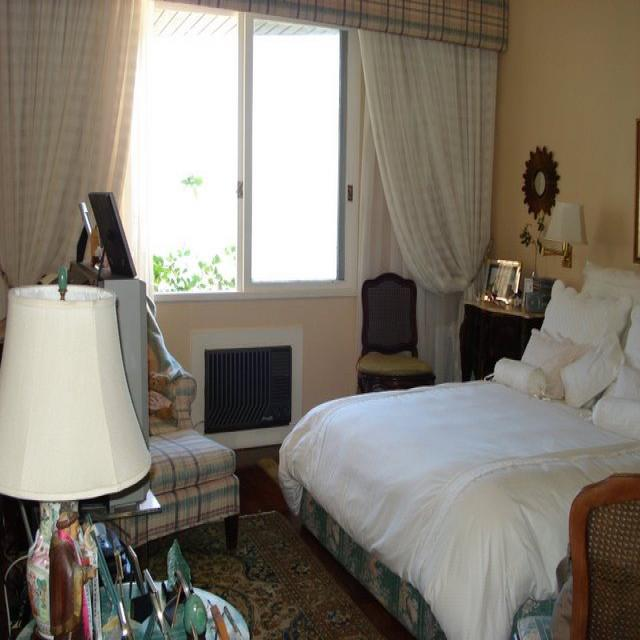2028: (42, 507, 80, 636)
Bed skirt: (277, 261, 638, 637)
Chair: (569, 473, 639, 639), (355, 273, 435, 395)
Lamp: (1, 267, 150, 637), (542, 201, 582, 265)
Window: (151, 1, 356, 297)
armchair crop: (40, 279, 238, 551)
bed-clothes: (289, 280, 635, 633)
climatizer: (204, 349, 291, 429)
curtain crop: (356, 27, 499, 319)
decorative frame mirror: (514, 139, 561, 224)
frame: (480, 255, 521, 307)
picture occluded: (87, 191, 134, 275)
pillow occluded: (549, 289, 631, 348)
